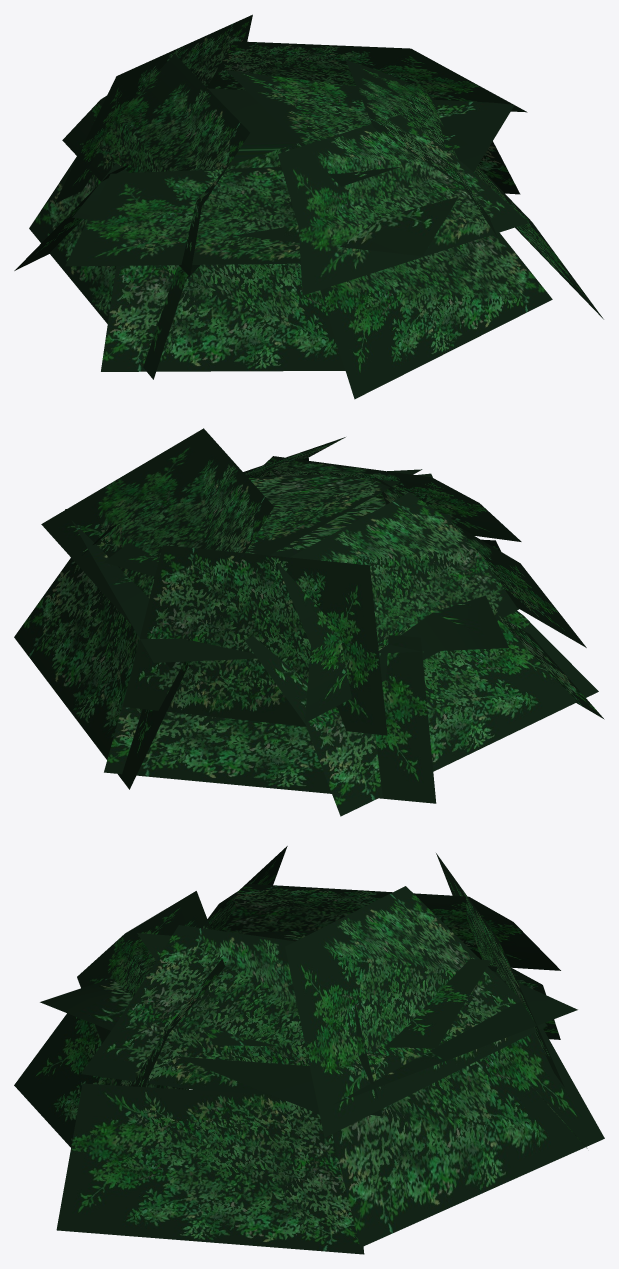
Rendered from gen_tree_canopy.fbx.
The picture shows the model from 3 angles, top to bottom: view 1: azimuth 30°, elevation 25°; view 2: azimuth 150°, elevation 25°; view 3: azimuth 270°, elevation 25°; orthographic projection. The views are drawn at different scales.
Visible parts, largest first — view 1: leaves_b_high, leaves_b_mid5; view 2: leaves_b_high, leaves_b_mid5; view 3: leaves_b_high, leaves_b_mid5.
Boxes of the visible parts, x1=… form: leaves_b_high: x1=14, y1=14, x2=603, y2=399; leaves_b_mid5: x1=220, y1=63, x2=468, y2=186; leaves_b_high: x1=14, y1=428, x2=604, y2=816; leaves_b_mid5: x1=103, y1=469, x2=422, y2=576; leaves_b_high: x1=14, y1=846, x2=604, y2=1254; leaves_b_mid5: x1=137, y1=933, x2=490, y2=1048.
Size of the model in its own units: 7533 by 3247 by 7117.
1 material, 1 textured.
